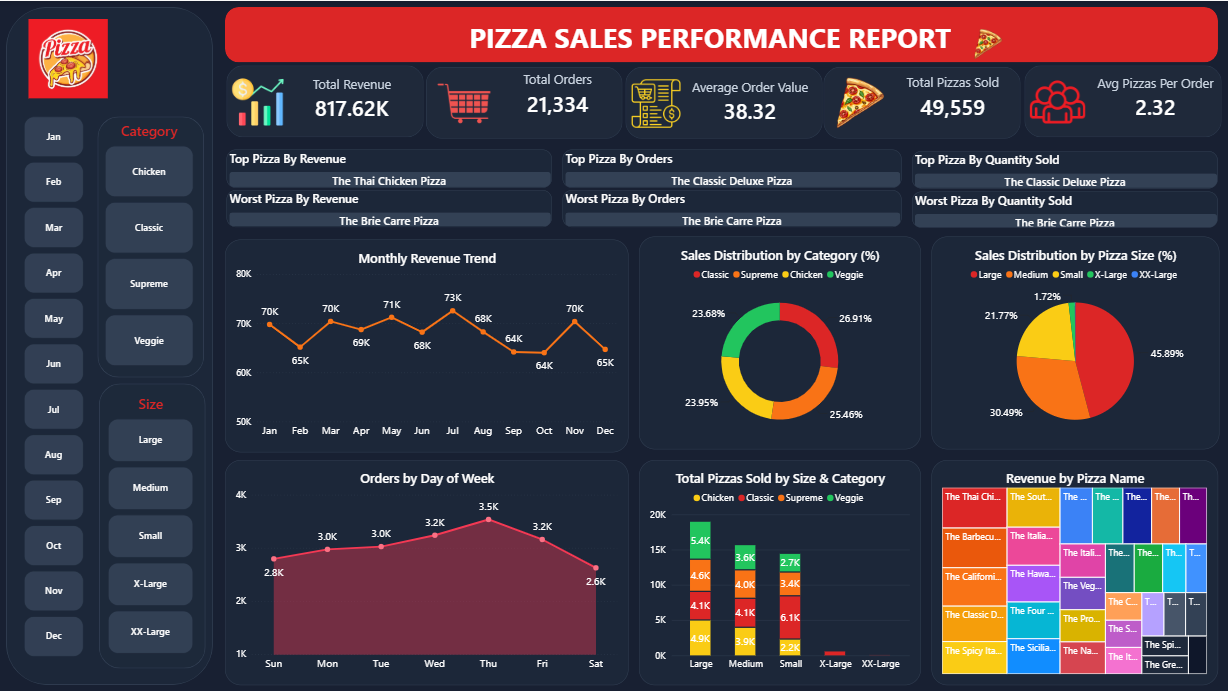

What the dashboard file says about the page in this screenshot:
{"tool":"powerbi","page":{"name":"DASHBOARD","canvas":[1920,1080],"ordinal":0},"visuals":[{"type":"shape","box":[9.4,9.4,323.5,1059.7],"z":0,"group":"g3"},{"type":"lineChart","title":"Monthly Revenue Trend","fields":{"Category":["PIZZA SALES.Month Name"],"Y":["PIZZA SALES.Total Revenue"]},"box":[351.7,372.8,630.7,332.9],"z":0},{"type":"group","id":"g1","title":"Group 6","box":[36.6,181.6,282.9,865.8],"z":1000,"group":"g3"},{"type":"lineChart","title":"Orders by Day of Week","fields":{"Category":["PIZZA SALES.Day Name"],"Y":["PIZZA SALES.Total Orders"]},"box":[351.7,717.4,630.7,351.7],"z":1000},{"type":"image","box":[39.7,27.3,133.6,124.3],"z":2000,"group":"g3"},{"type":"donutChart","title":"Sales Distribution by Category (%)","fields":{"Category":["PIZZA SALES.pizza_category"],"Y":["PIZZA SALES.Total Revenue"]},"box":[998.7,368.1,440.8,337.6],"z":2000},{"type":"pieChart","title":"Sales Distribution by Pizza Size (%)","fields":{"Category":["PIZZA SALES.pizza_size"],"Y":["PIZZA SALES.Total Revenue"]},"box":[1455.9,368.1,450.1,337.6],"z":3000},{"type":"columnChart","title":"Total Pizzas Sold by Size & Category","fields":{"Category":["PIZZA SALES.pizza_size"],"Series":["PIZZA SALES.pizza_category"],"Y":["PIZZA SALES.Total Pizzas Sold"]},"box":[998.7,717.4,440.8,351.7],"z":4000},{"type":"treemap","title":"Revenue by Pizza Name","fields":{"Group":["PIZZA SALES.pizza_name"],"Values":["PIZZA SALES.Total Revenue"]},"box":[1455.9,717.4,447.8,351.7],"z":5000},{"type":"group","id":"g2","title":"Group 2","box":[351.7,9.4,1552,86.7],"z":6000},{"type":"group","id":"g3","title":"Group 7","box":[9.4,9.4,323.5,1059.7],"z":7000},{"type":"group","id":"g4","title":"Group 3","box":[354,232.1,508.8,107.8],"z":8000},{"type":"advancedSlicerVisual","fields":{"Values":["PIZZA SALES.pizza_name"]},"box":[354,232.1,508.8,59.9],"z":9000,"group":"g4"},{"type":"group","id":"g5","title":"Group 8","box":[879.2,232.1,529.9,121.9],"z":9000},{"type":"group","id":"g6","title":"Group 9","box":[1425.4,234.4,478.3,119.6],"z":10000},{"type":"advancedSlicerVisual","fields":{"Values":["PIZZA SALES.pizza_name"]},"box":[354,296.2,508.8,57.9],"z":10000,"group":"g4"},{"type":"group","id":"g7","title":"Group 10","box":[354,100.8,1554.4,114.9],"z":11000},{"type":"advancedSlicerVisual","fields":{"Values":["PIZZA SALES.pizza_name"]},"box":[879.2,232.1,529.9,59.9],"z":11000,"group":"g5"},{"type":"advancedSlicerVisual","fields":{"Values":["PIZZA SALES.pizza_name"]},"box":[1425.4,234.4,478.3,58.8],"z":12000,"group":"g6"},{"type":"advancedSlicerVisual","fields":{"Values":["PIZZA SALES.pizza_name"]},"box":[1425.4,297.2,478.3,56.7],"z":13000,"group":"g6"},{"type":"advancedSlicerVisual","fields":{"Values":["PIZZA SALES.Month Name"]},"box":[36.6,182.6,93.8,853.4],"z":14000,"group":"g1"},{"type":"advancedSlicerVisual","fields":{"Values":["PIZZA SALES.pizza_name"]},"box":[879.2,296.2,529.9,57.9],"z":14000,"group":"g5"},{"type":"cardVisual","fields":{"Data":["PIZZA SALES.Total Revenue"]},"box":[354,100.8,308.2,112.5],"z":15000,"group":"g7"},{"type":"group","id":"g8","title":"Group 4","box":[152.3,181.6,166.5,407.9],"z":15000,"group":"g1"},{"type":"image","box":[1491.1,40.4,103.2,55.8],"z":16000,"group":"g10"},{"type":"cardVisual","fields":{"Data":["PIZZA SALES.Total Orders"]},"box":[666.2,103.1,307.2,112.5],"z":16000,"group":"g7"},{"type":"shape","box":[152.3,181.6,166.5,407.9],"z":16000,"group":"g8"},{"type":"group","id":"g9","title":"Group 5","box":[153,599.6,166.5,447.8],"z":16000,"group":"g1"},{"type":"shape","box":[351.7,9.4,1552,86.7],"z":17000,"group":"g2"},{"type":"cardVisual","fields":{"Data":["PIZZA SALES.Total Pizzas Sold"]},"box":[1287.5,103.1,308.2,112.5],"z":17000,"group":"g7"},{"type":"shape","box":[153,599.6,166.5,445.5],"z":17000,"group":"g9"},{"type":"textbox","box":[562.7,19.7,1094.9,66.1],"z":18000,"group":"g10"},{"type":"cardVisual","fields":{"Data":["PIZZA SALES.Average Order Value"]},"box":[977.1,103.1,308.2,112.5],"z":18000,"group":"g7"},{"type":"advancedSlicerVisual","title":"Category","fields":{"Values":["PIZZA SALES.pizza_category"]},"box":[163.5,189.7,138.3,384.5],"z":18000,"group":"g8"},{"type":"group","id":"g10","title":"Group 1","box":[562.7,19.7,1094.9,76.4],"z":18001,"group":"g2"},{"type":"cardVisual","fields":{"Data":["PIZZA SALES.Avg Pizzas Per Order"]},"box":[1600.2,100.8,308.2,112],"z":19000,"group":"g7"},{"type":"advancedSlicerVisual","title":"Size","fields":{"Values":["PIZZA SALES.pizza_size"]},"box":[167.1,615.2,133.6,406.4],"z":19000,"group":"g9"}]}

Visuals, with their boxes in screenshot pixels (x1, y1, x2, y2), scaled from the page's 1920x1080 canvas onto the 1228x691 screenshot:
shape: 6, 6, 213, 684
"Monthly Revenue Trend" lineChart: 225, 239, 628, 452
"Group 6" group: 23, 116, 204, 670
"Orders by Day of Week" lineChart: 225, 459, 628, 684
image: 25, 17, 111, 97
"Sales Distribution by Category (%)" donutChart: 639, 236, 921, 452
"Sales Distribution by Pizza Size (%)" pieChart: 931, 236, 1219, 452
"Total Pizzas Sold by Size & Category" columnChart: 639, 459, 921, 684
"Revenue by Pizza Name" treemap: 931, 459, 1218, 684
"Group 2" group: 225, 6, 1218, 61
"Group 7" group: 6, 6, 213, 684
"Group 3" group: 226, 149, 552, 217
advancedSlicerVisual - PIZZA SALES.pizza_name: 226, 149, 552, 187
"Group 8" group: 562, 149, 901, 226
"Group 9" group: 912, 150, 1218, 226
advancedSlicerVisual - PIZZA SALES.pizza_name: 226, 190, 552, 227
"Group 10" group: 226, 64, 1221, 138
advancedSlicerVisual - PIZZA SALES.pizza_name: 562, 149, 901, 187
advancedSlicerVisual - PIZZA SALES.pizza_name: 912, 150, 1218, 188
advancedSlicerVisual - PIZZA SALES.pizza_name: 912, 190, 1218, 226
advancedSlicerVisual - PIZZA SALES.Month Name: 23, 117, 83, 663
advancedSlicerVisual - PIZZA SALES.pizza_name: 562, 190, 901, 227
cardVisual - PIZZA SALES.Total Revenue: 226, 64, 424, 136
"Group 4" group: 97, 116, 204, 377
image: 954, 26, 1020, 62
cardVisual - PIZZA SALES.Total Orders: 426, 66, 623, 138
shape: 97, 116, 204, 377
"Group 5" group: 98, 384, 204, 670
shape: 225, 6, 1218, 61
cardVisual - PIZZA SALES.Total Pizzas Sold: 823, 66, 1021, 138
shape: 98, 384, 204, 669
textbox: 360, 13, 1060, 55
cardVisual - PIZZA SALES.Average Order Value: 625, 66, 822, 138
"Category" advancedSlicerVisual: 105, 121, 193, 367
"Group 1" group: 360, 13, 1060, 61
cardVisual - PIZZA SALES.Avg Pizzas Per Order: 1023, 64, 1221, 136
"Size" advancedSlicerVisual: 107, 394, 192, 654
